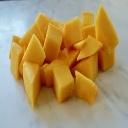mango: (10, 7, 119, 109)
